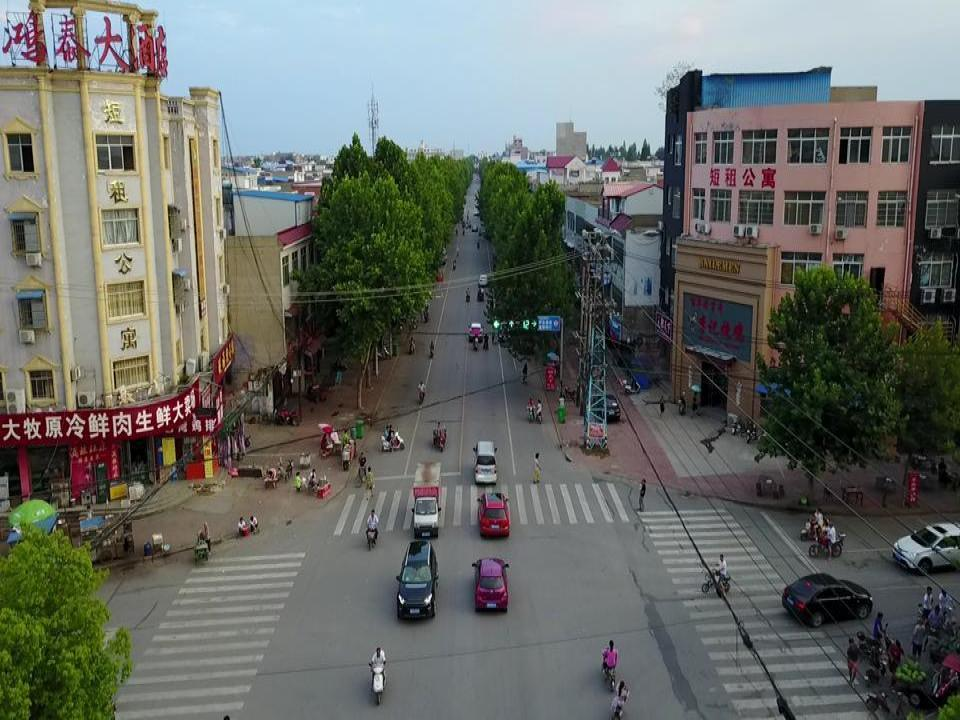car: (782, 572, 874, 628), (891, 520, 960, 576), (396, 540, 439, 620), (471, 558, 510, 614), (476, 490, 510, 538), (592, 393, 621, 424), (468, 322, 484, 342)
van: (411, 461, 442, 539), (473, 440, 498, 485)
